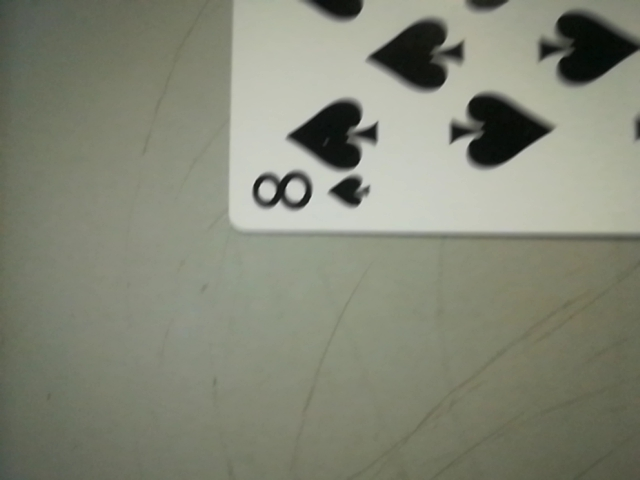ht 8: (236, 147, 387, 231)
